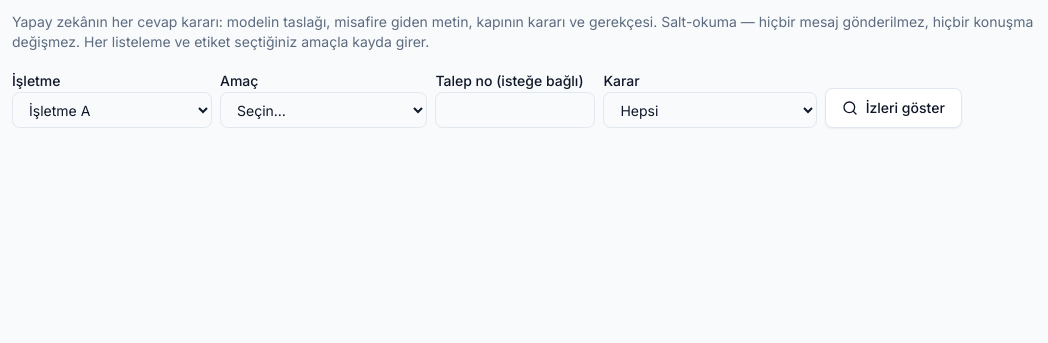
it: kalite konsolu — geç gelen yanıt güncel seçimin altında görünmez (H3) › 'Daha eski izler' uçuştayken karar süzgeci değişti → eski sayfa yeni listeye eklenmez
Select "Kalite incelemesi" in the dropdown labelled "Amaç" at {"x": 324, "y": 110}, box [220,92,427,128]
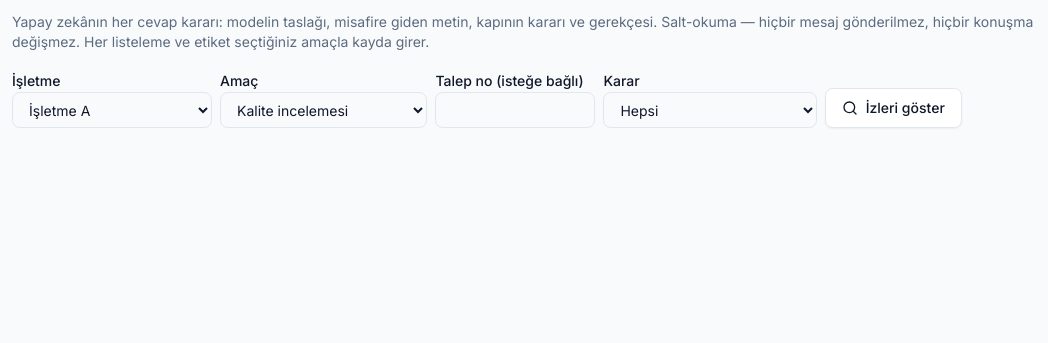
Click the button "İzleri göster" at {"x": 893, "y": 108}, box [825,88,962,128]
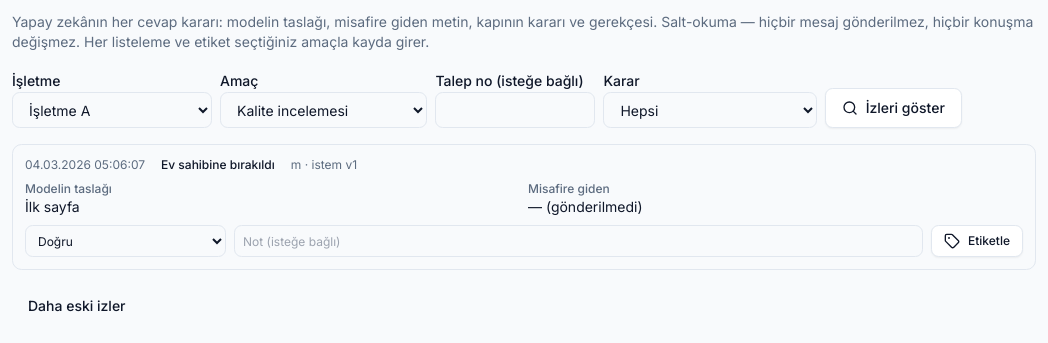
Click the button "Daha eski izler" at {"x": 77, "y": 306}, box [12,286,142,326]
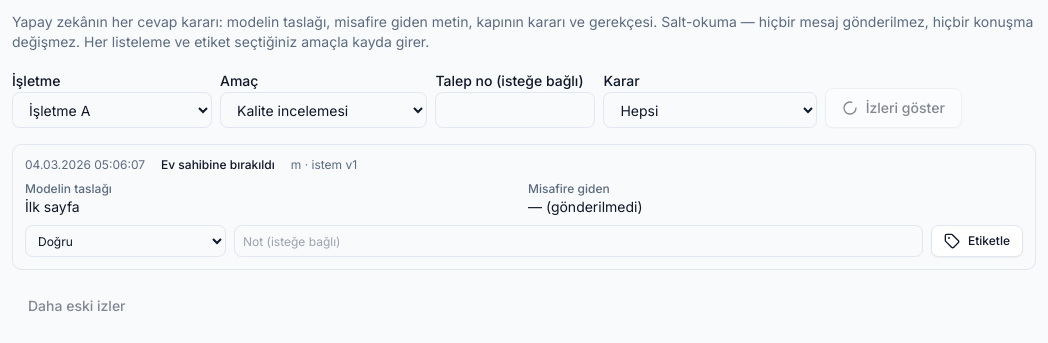
Select "Otomatik gönderildi" in the dropdown labelled "Karar" at {"x": 710, "y": 110}, box [603,92,817,128]
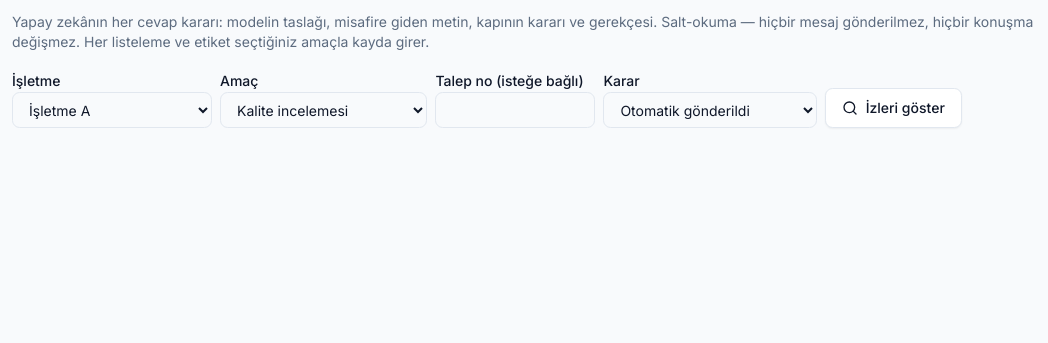
Now the text "İlk sayfa" is gone
